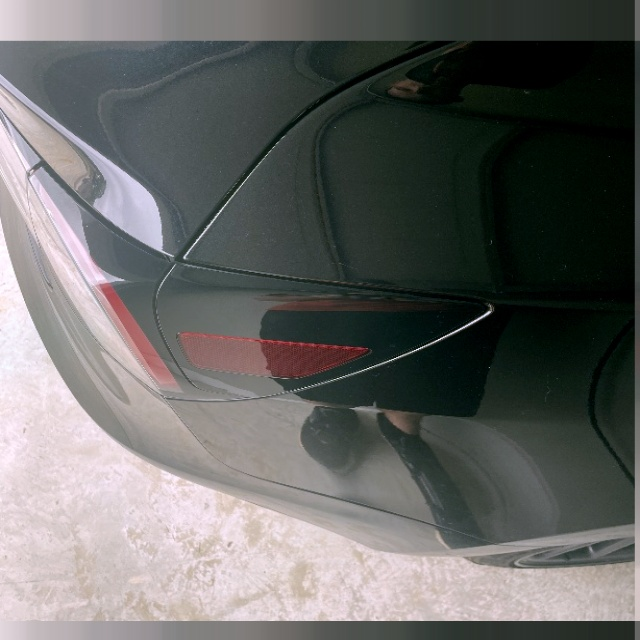reflector: (177, 332, 370, 378)
